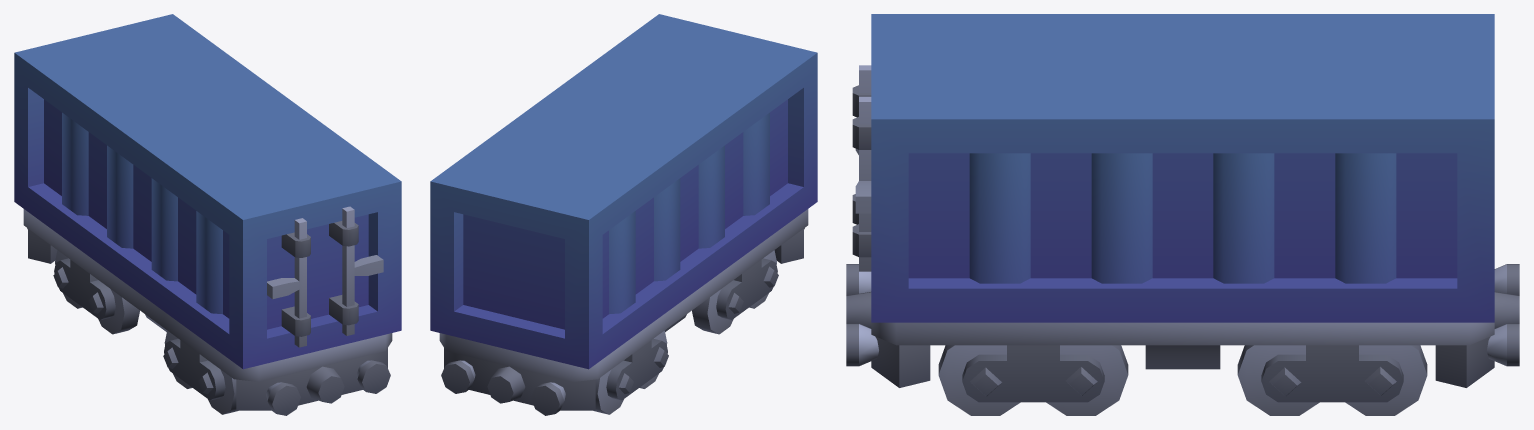
File: train-carriage-container-blue.glb
3 views of the same model, side by side, from view 1: azimuth 30°, elevation 25°; view 2: azimuth 150°, elevation 25°; view 3: azimuth 270°, elevation 25° (orthographic). The views are drawn at different scales.
Parts seen in each view (by area): view 1: cargo, train-carriage-container-blue, wheels-back, wheels-front; view 2: cargo, train-carriage-container-blue, wheels-front, wheels-back; view 3: cargo, train-carriage-container-blue, wheels-front, wheels-back.
Boxes of the visible parts, bbox=[...] form: cargo: bbox=[14, 14, 401, 369]; train-carriage-container-blue: bbox=[23, 209, 392, 415]; wheels-back: bbox=[53, 250, 139, 334]; wheels-front: bbox=[163, 330, 238, 414]; cargo: bbox=[430, 14, 817, 369]; train-carriage-container-blue: bbox=[439, 209, 808, 415]; wheels-front: bbox=[692, 250, 778, 334]; wheels-back: bbox=[593, 330, 668, 414]; cargo: bbox=[852, 14, 1494, 322]; train-carriage-container-blue: bbox=[846, 264, 1519, 387]; wheels-front: bbox=[938, 345, 1128, 415]; wheels-back: bbox=[1237, 345, 1427, 415].
Size of the model in its own units: 1 by 1.36 by 2.7.
